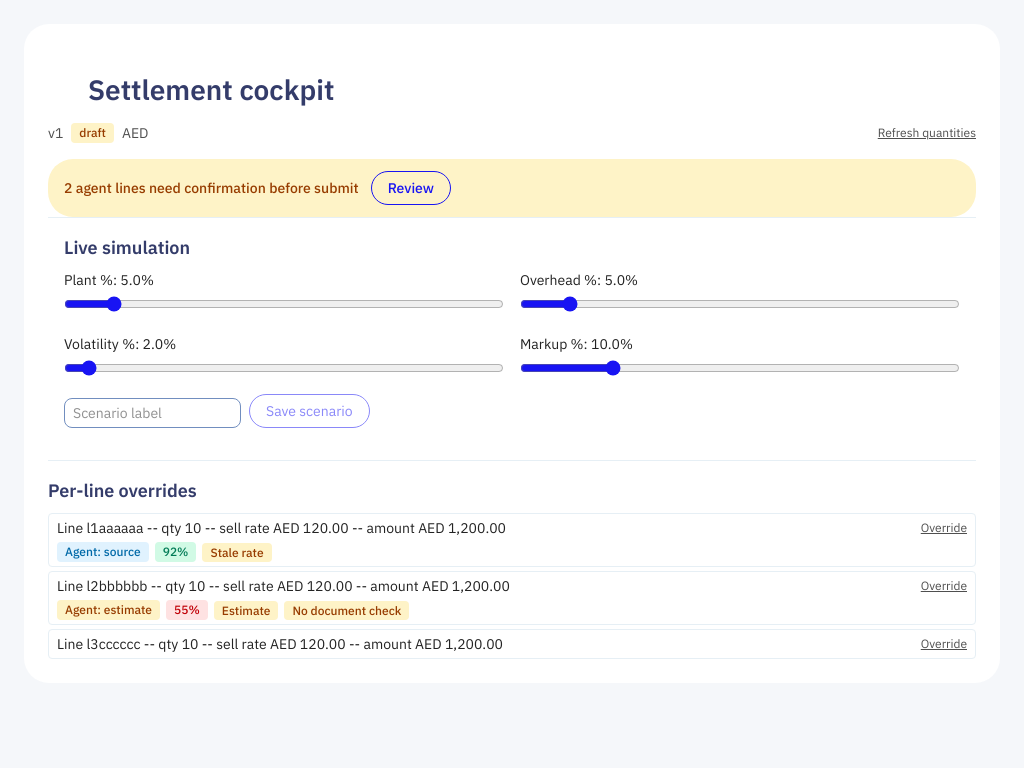
Test: SettlementPage agent lines › estimators see badges and the drawer but no Bulk confirm, Confirm or Replace
Expected: the text "2 agent lines need confirmation before submit" is shown, top-left (64, 178), bottom-right (359, 198)
What coordinates should you click on to do the following:
click the button "Agent: source"
I would click on:
 (103, 552)
Its box is top-left (57, 542), bottom-right (149, 562).
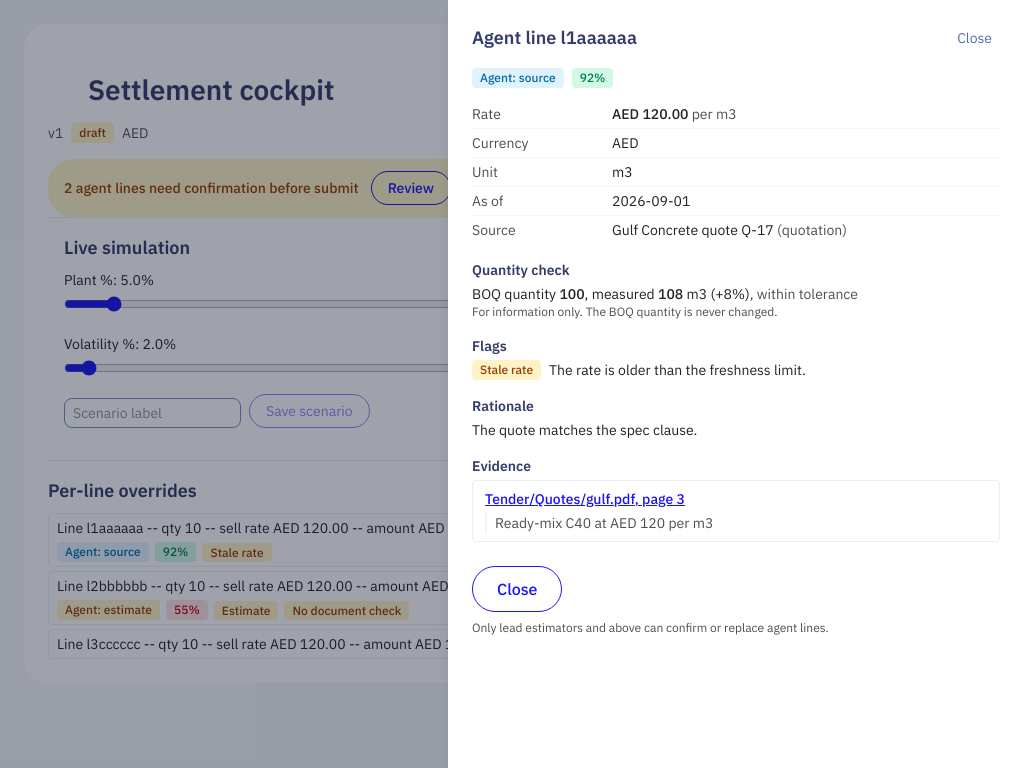
Now the dialog shows "Gulf Concrete quote Q-17", box top-left (612, 221), bottom-right (774, 239)
Now the button "Close" in the row of "Agent line l1aaaaaa" is shown, box top-left (949, 24), bottom-right (1000, 52)
